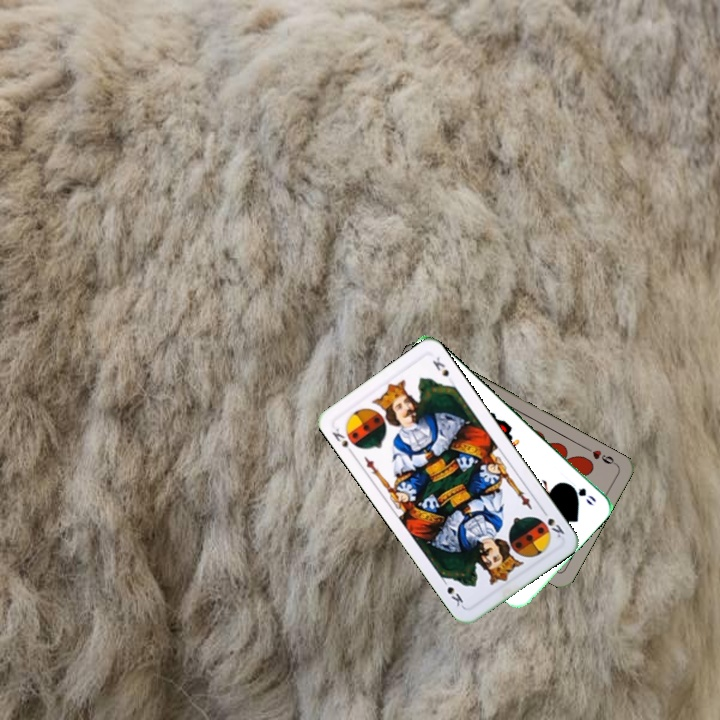GO: (562, 479, 599, 508)
H9: (582, 443, 619, 468)
SK: (538, 505, 567, 540), (328, 424, 357, 458)
